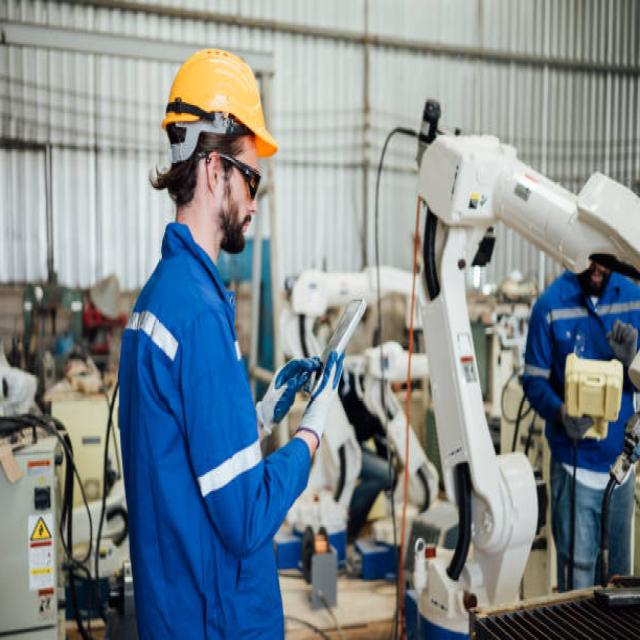Robotic-arm: (403, 128, 640, 640), (288, 255, 416, 532)
